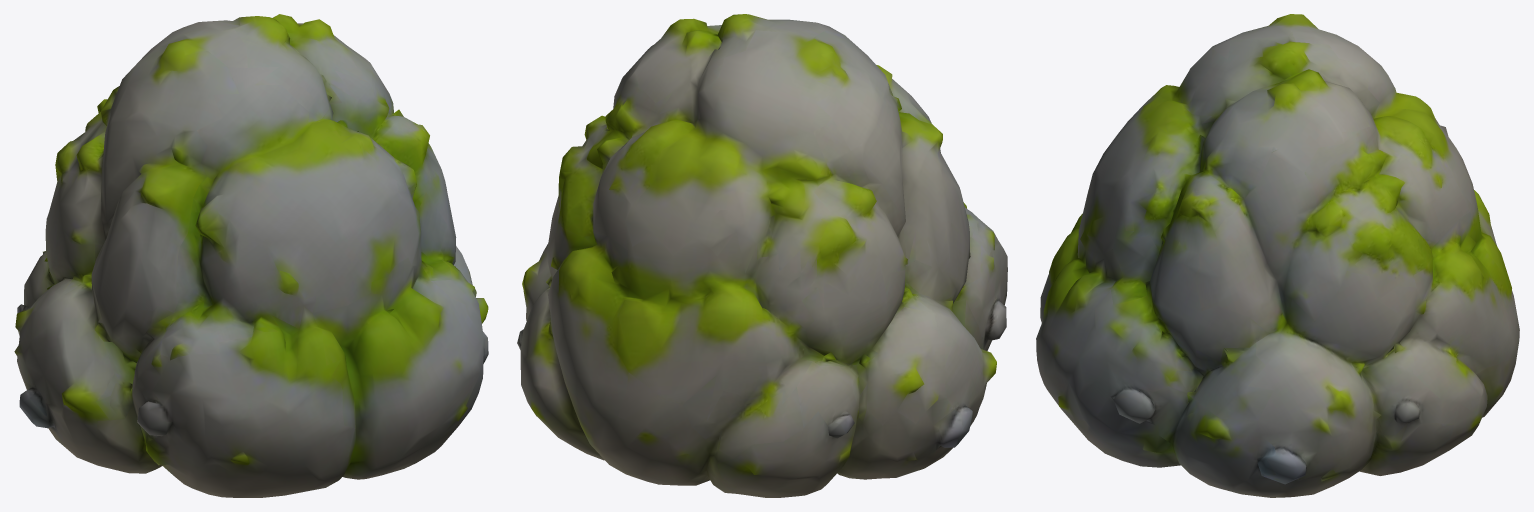
Rendered from rock.glb.
3 renders of one model, left to right at view 1: azimuth 30°, elevation 25°; view 2: azimuth 150°, elevation 25°; view 3: azimuth 270°, elevation 25°, orthographic. The views are drawn at different scales.
Parts seen in each view (by area): view 1: tripo_node_0c7ebedd-1f02-45ad-b579-7fec32af5f92; view 2: tripo_node_0c7ebedd-1f02-45ad-b579-7fec32af5f92; view 3: tripo_node_0c7ebedd-1f02-45ad-b579-7fec32af5f92.
Part boxes in pixels (x1=…): tripo_node_0c7ebedd-1f02-45ad-b579-7fec32af5f92: x1=14, y1=14, x2=488, y2=497; tripo_node_0c7ebedd-1f02-45ad-b579-7fec32af5f92: x1=517, y1=14, x2=1007, y2=497; tripo_node_0c7ebedd-1f02-45ad-b579-7fec32af5f92: x1=1036, y1=14, x2=1519, y2=497.
Bounding box in the file's own units: 0.3411 × 0.3 × 0.3422.
1 material, 1 textured.
